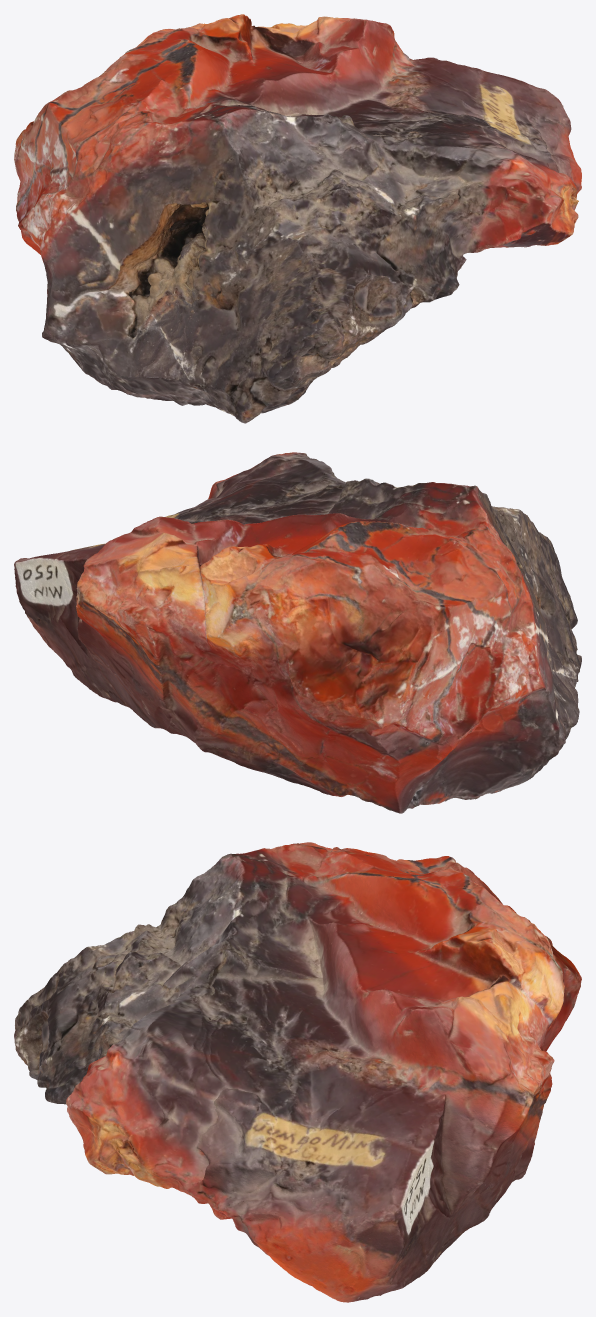
The model's file is red_jasper.glb.
3 renders of one model, top to bottom at view 1: azimuth 30°, elevation 25°; view 2: azimuth 150°, elevation 25°; view 3: azimuth 270°, elevation 25°, orthographic. The views are drawn at different scales.
Parts seen in each view (by area): view 1: Object_2; view 2: Object_2; view 3: Object_2.
Part boxes in pixels (left/top/right/bottom): Object_2: left=14, top=14, right=581, bottom=423; Object_2: left=14, top=452, right=581, bottom=813; Object_2: left=14, top=842, right=581, bottom=1302.
Size of the model in its own units: 3.8 by 1.83 by 3.11.
1 material, 1 textured.
